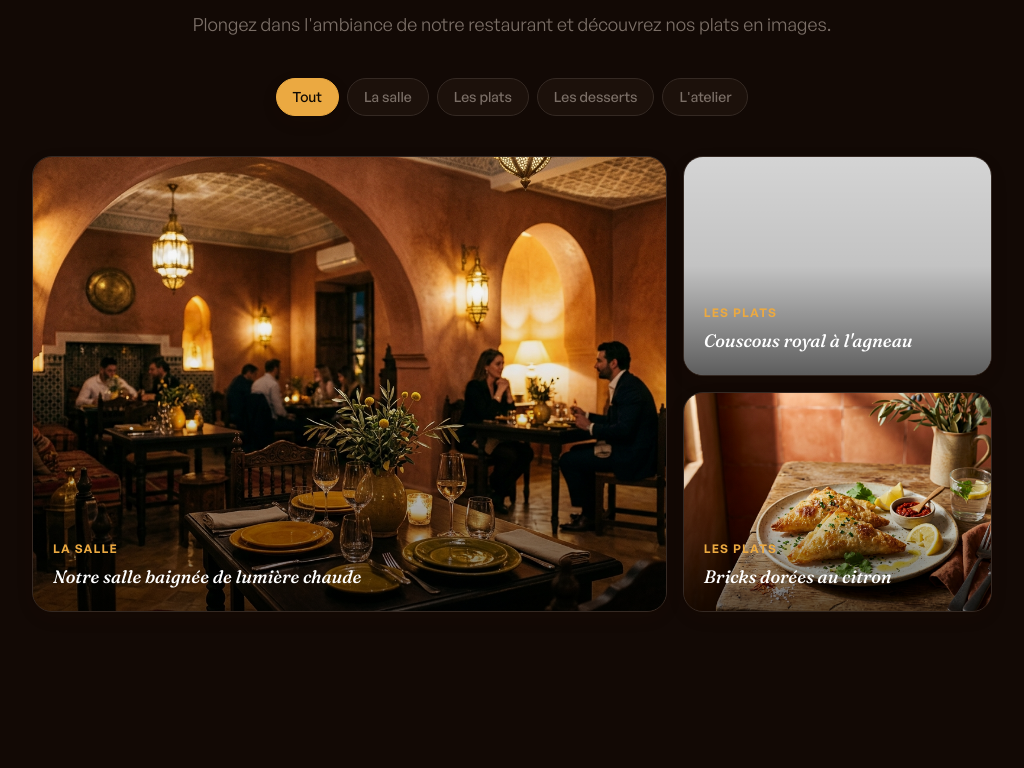
GalleryPage › opens a fullscreen lightbox when an image is clicked
(page scrolled)
Click the button "La salle Notre salle baignée de lumière chaude".
click(349, 384)  # box [32,156,667,612]
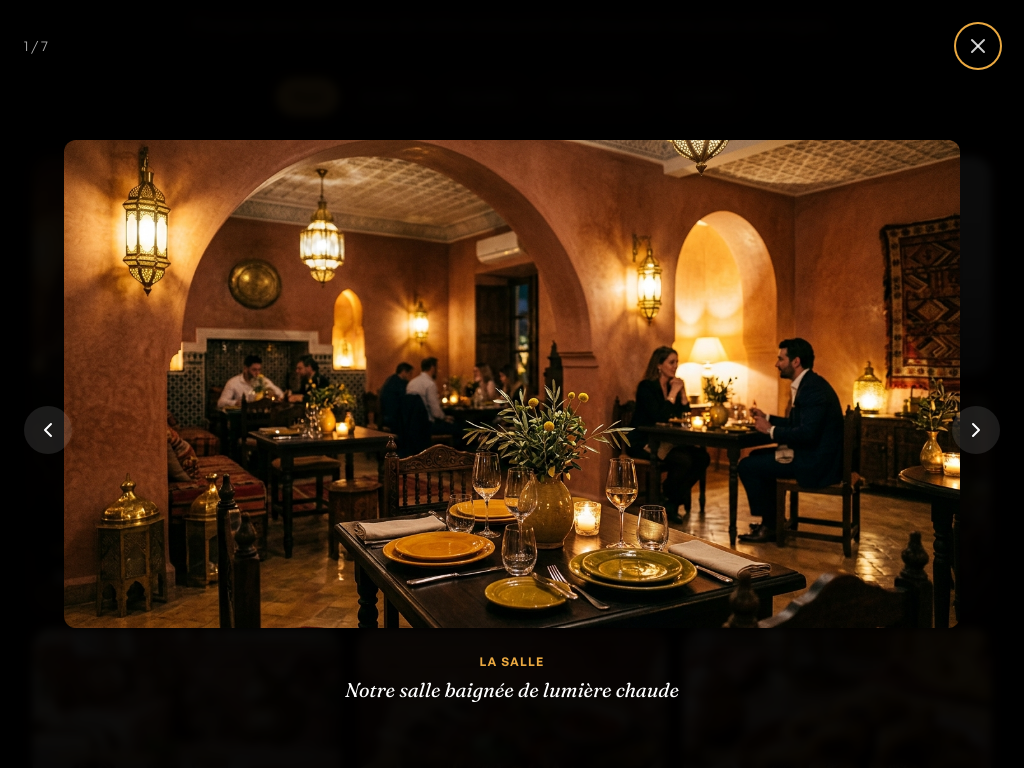
Check: the dialog named "Visionneuse d'images" is shown
Check: the button named "Fermer la visionneuse" is shown, box [956,24,1000,68]
Check: the text "1 / 7" is shown, box [24,36,48,56]
